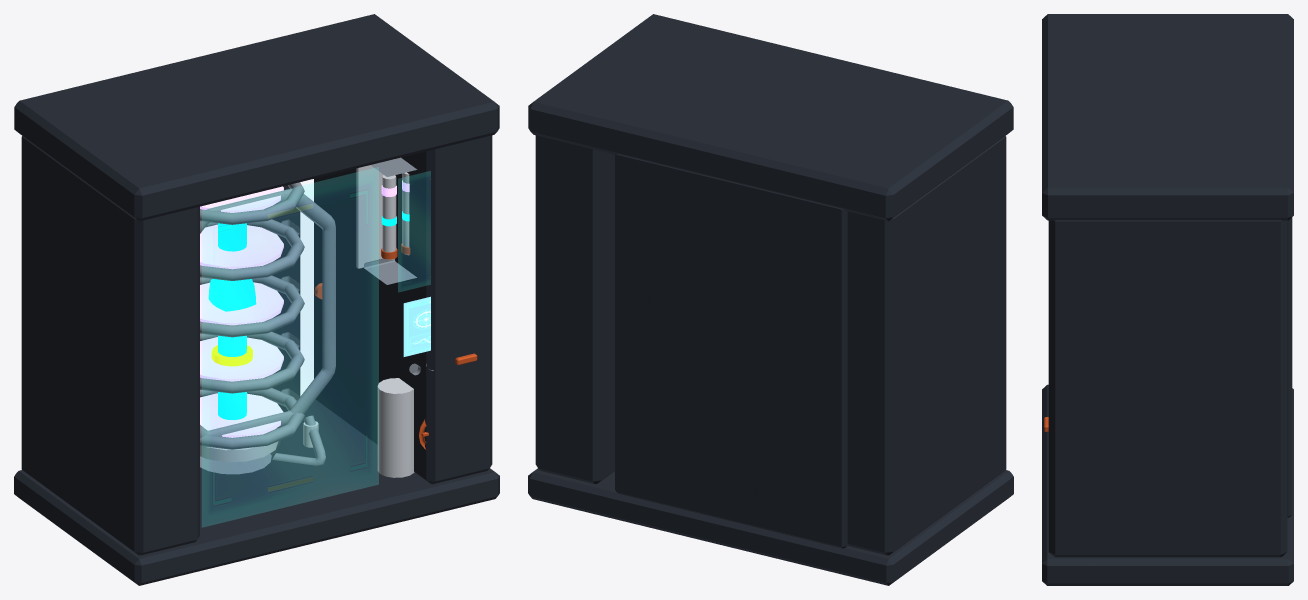
The model's file is reactor_core_r1_03.glb.
3 views of the same model, side by side, from view 1: azimuth 30°, elevation 25°; view 2: azimuth 150°, elevation 25°; view 3: azimuth 270°, elevation 25° (orthographic).
Visible parts, largest first — view 1: Reactor03_TokamakCarbonHull, Reactor03_CurvedTranslucentShields, Reactor03_TokamakCageAndCoils, Reactor03_UVFieldRings, Reactor03_WhiteCryoDewarsAndRods, Reactor03_CyanTokamakPlasmaCore, Reactor03_OLEDTelemetryTerminal, Reactor03_SignalOrangeValvesAndSCRAM; view 2: Reactor03_TokamakCarbonHull; view 3: Reactor03_TokamakCarbonHull.
Boxes of the visible parts, x1,y1,x2,y2 form: Reactor03_TokamakCarbonHull: [14, 14, 499, 585]; Reactor03_CurvedTranslucentShields: [202, 167, 430, 526]; Reactor03_TokamakCageAndCoils: [200, 157, 433, 474]; Reactor03_UVFieldRings: [200, 180, 409, 437]; Reactor03_WhiteCryoDewarsAndRods: [200, 165, 414, 477]; Reactor03_CyanTokamakPlasmaCore: [208, 211, 409, 419]; Reactor03_OLEDTelemetryTerminal: [403, 296, 430, 356]; Reactor03_SignalOrangeValvesAndSCRAM: [314, 243, 477, 449]; Reactor03_TokamakCarbonHull: [528, 14, 1013, 585]; Reactor03_TokamakCarbonHull: [1042, 14, 1293, 585].
Bounding box in the file's own units: 2.55 × 2.65 × 1.52.
Materials: 9 (9 with a texture image).
